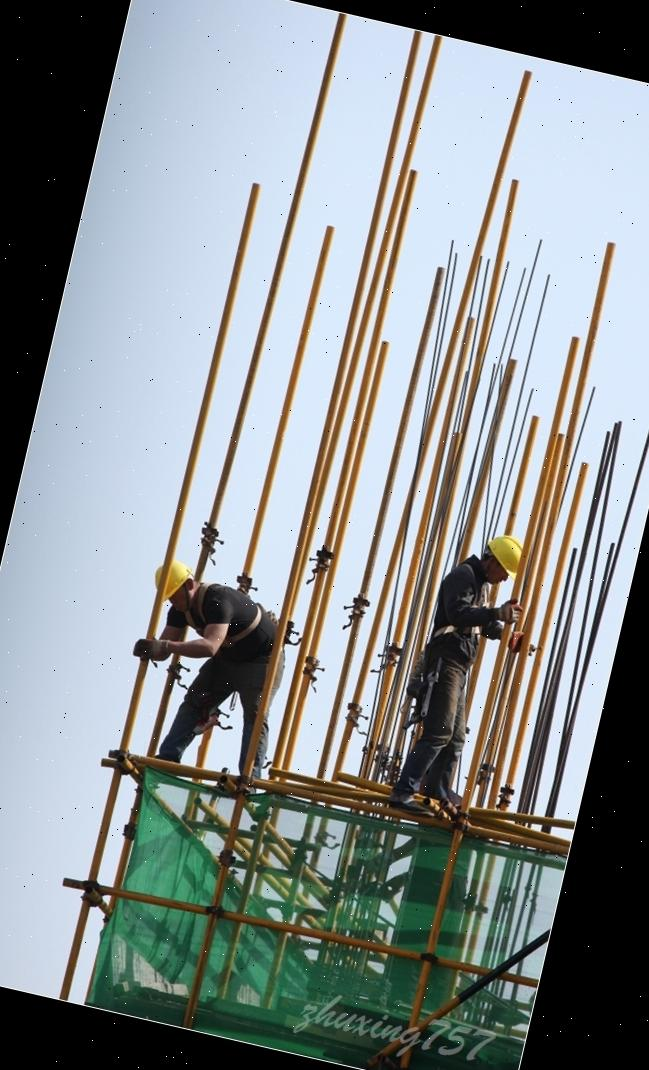helmet: (480, 530, 528, 580), (159, 556, 196, 607)
no_wear: (177, 575, 298, 681), (426, 568, 486, 650)
